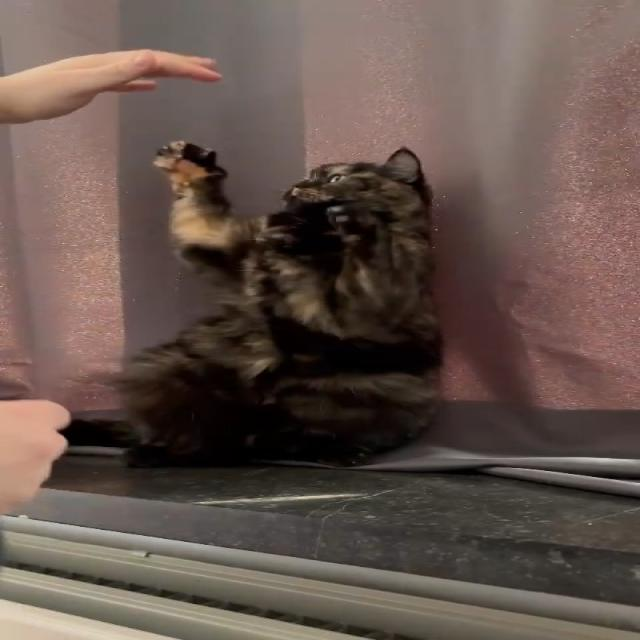authorized: (102, 140, 446, 468)
